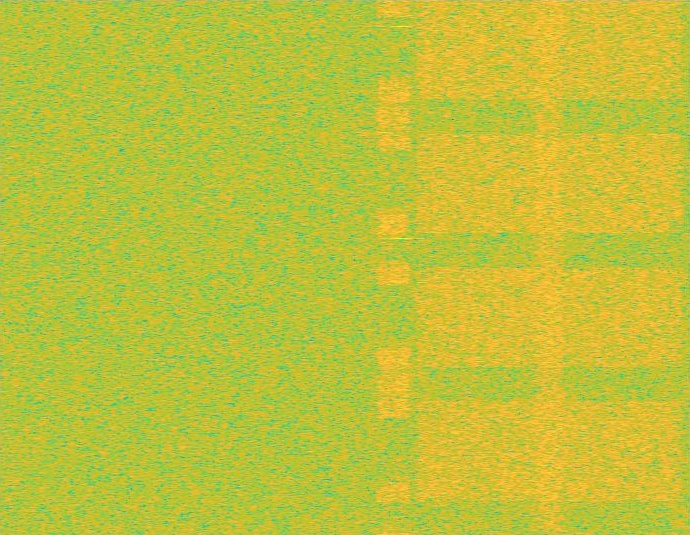5G: (411, 0, 687, 534)
DSSS: (531, 0, 568, 534)
LTE: (377, 0, 411, 534)
Radar: (394, 0, 408, 534)
